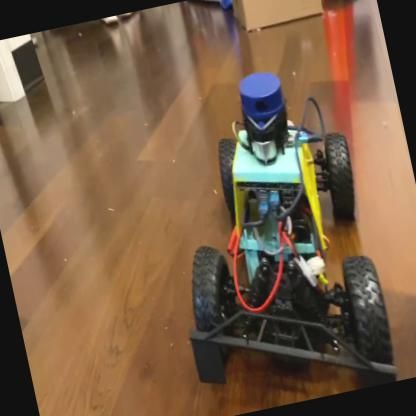mushr_car: (137, 58, 401, 415)
